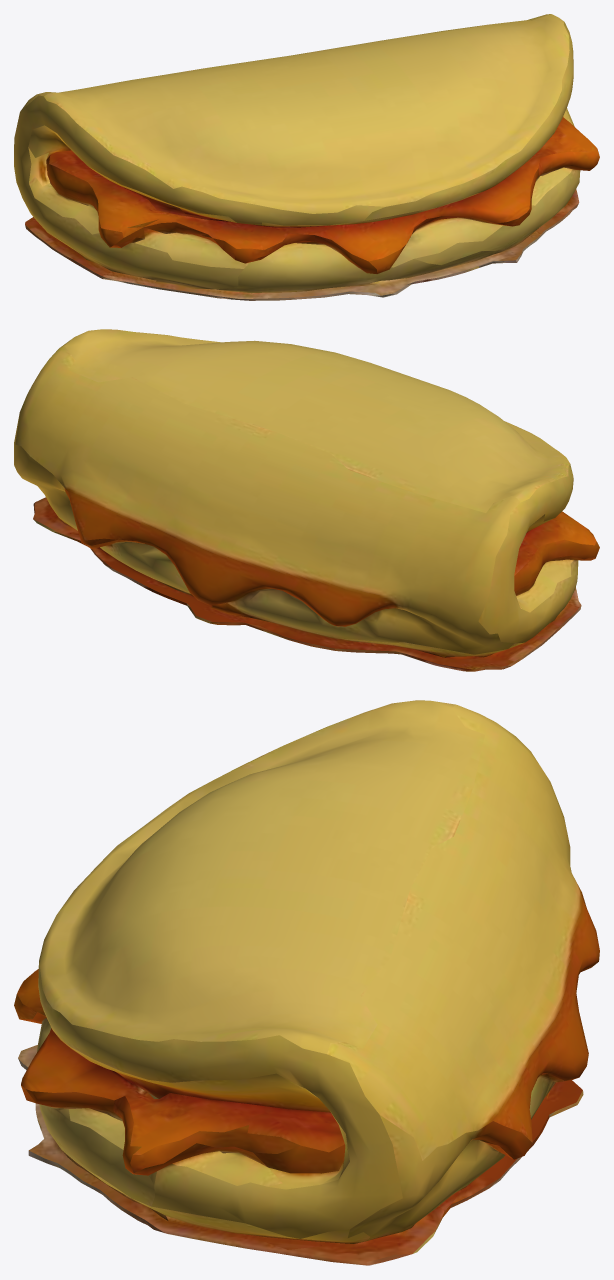
Rendered from cheese_omelette.glb.
3 views of the same model, one above another, from view 1: azimuth 30°, elevation 25°; view 2: azimuth 150°, elevation 25°; view 3: azimuth 270°, elevation 25° (orthographic). The views are drawn at different scales.
Parts seen in each view (by area): view 1: omA_s3; view 2: omA_s3; view 3: omA_s3.
Part boxes in pixels (x1,y1,x2,y2): omA_s3: [14, 14, 599, 300]; omA_s3: [14, 329, 599, 671]; omA_s3: [14, 700, 599, 1265].
Bounding box in the file's own units: 1 × 0.2843 × 0.6831.
Materials: 1 (1 with a texture image).
